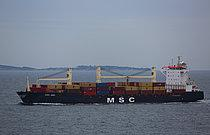Ship: (14, 55, 207, 108)
